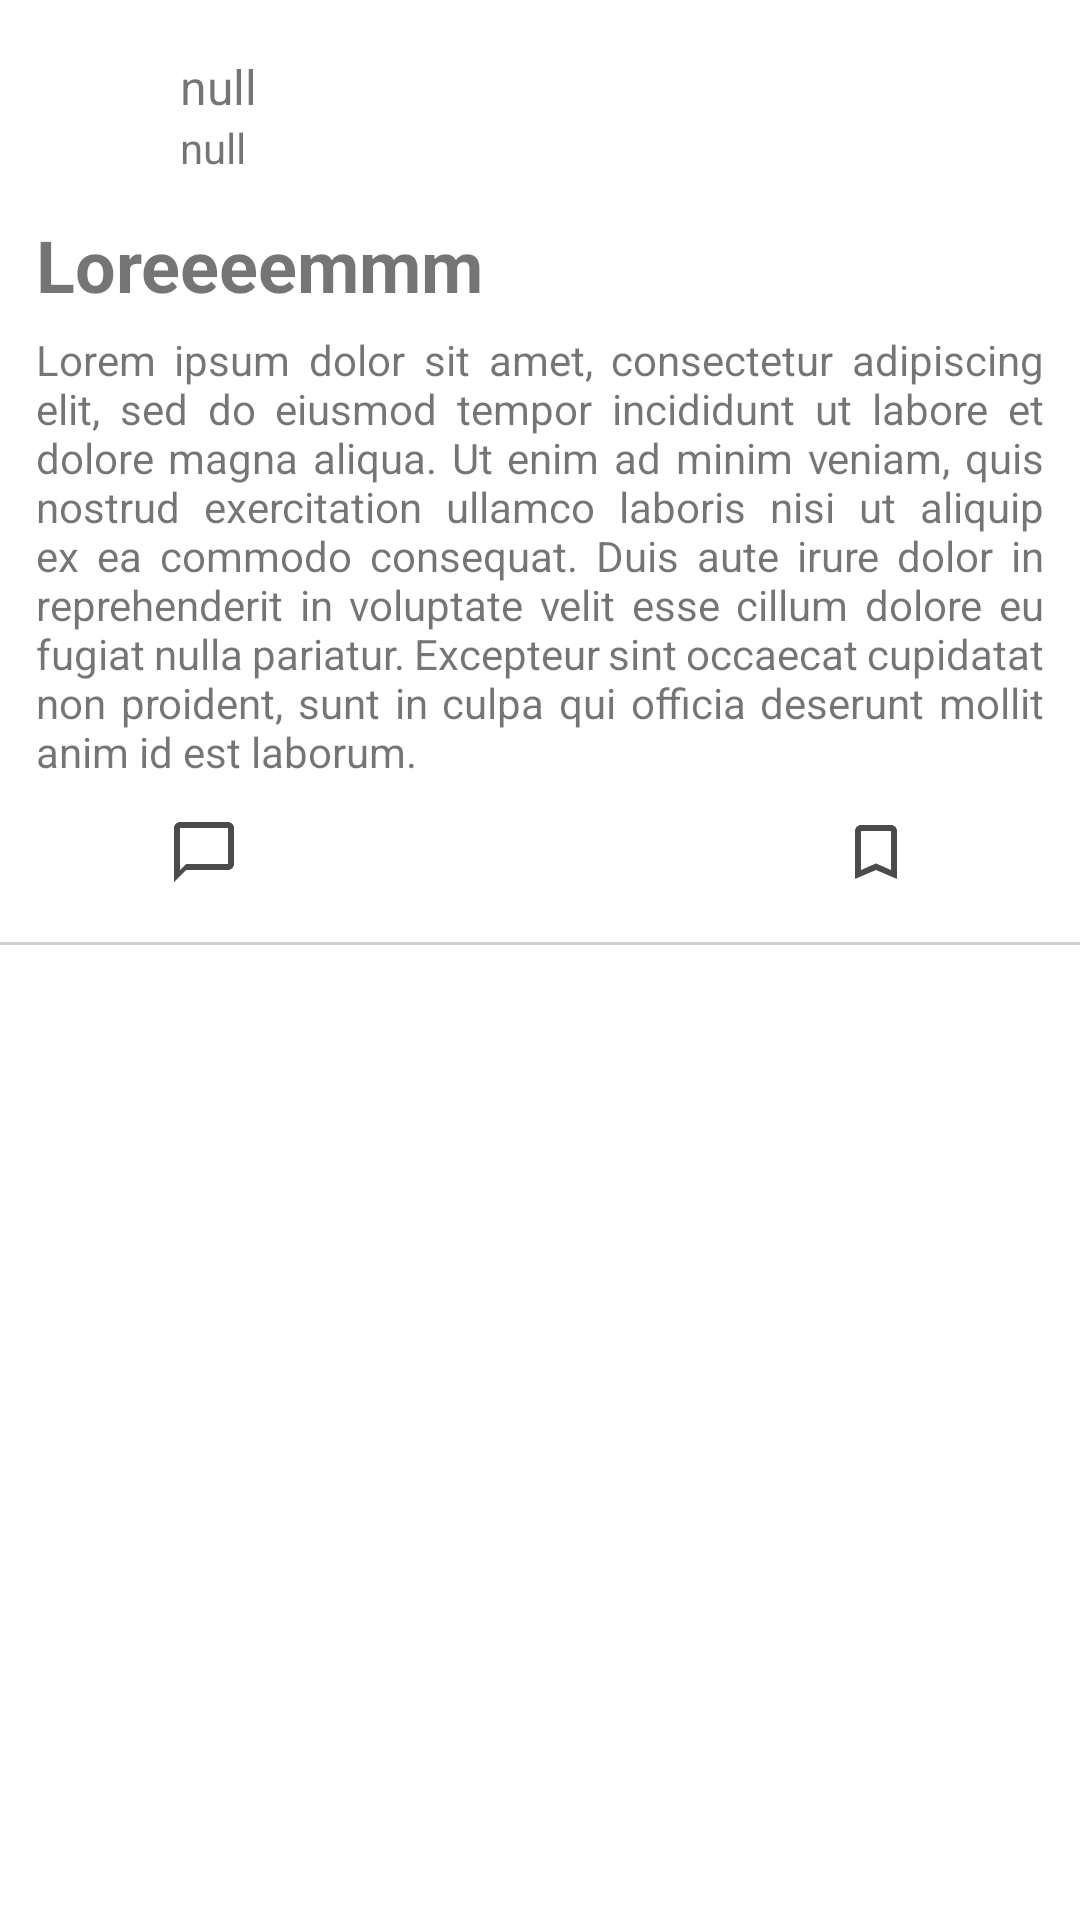

Icon bounding boxes for this 1080×1920 phone screenshot, format (x1, y1, x2, y2):
bookmark border: (855, 825, 897, 879)
chat bubble: (174, 822, 234, 882)
